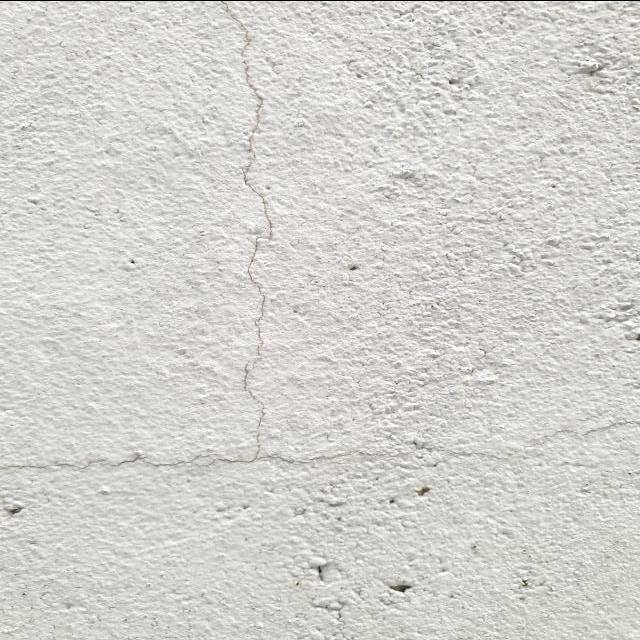SurfaceCrack: (182, 1, 300, 640)
